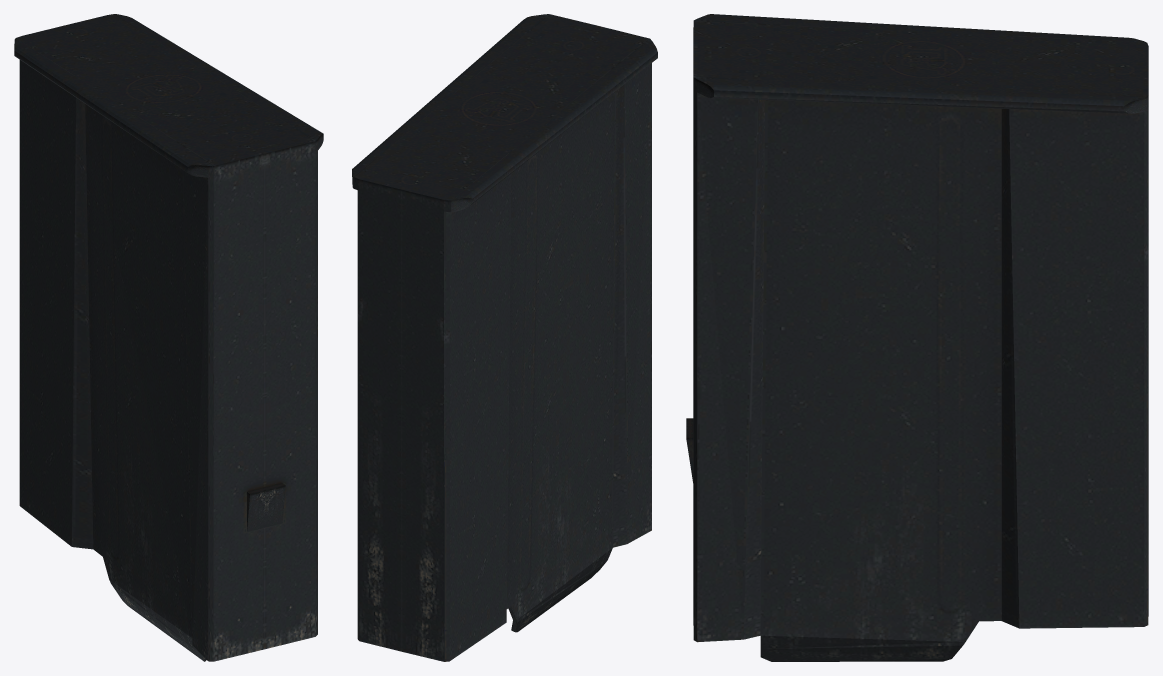
The picture shows the model from 3 angles, left to right: view 1: azimuth 30°, elevation 25°; view 2: azimuth 150°, elevation 25°; view 3: azimuth 270°, elevation 25°; orthographic projection. The views are drawn at different scales.
Parts seen in each view (by area): view 1: TW_5888988e24597752fe43a6fa_PZ_Import; view 2: TW_5888988e24597752fe43a6fa_PZ_Import; view 3: TW_5888988e24597752fe43a6fa_PZ_Import.
Part boxes in pixels (left/top/right/bottom): TW_5888988e24597752fe43a6fa_PZ_Import: left=14, top=14, right=323, bottom=661; TW_5888988e24597752fe43a6fa_PZ_Import: left=352, top=14, right=657, bottom=661; TW_5888988e24597752fe43a6fa_PZ_Import: left=686, top=14, right=1148, bottom=661.
Bounding box in the file's own units: 0.0176 × 0.0456 × 0.0652.
Materials: 1 (1 with a texture image).
